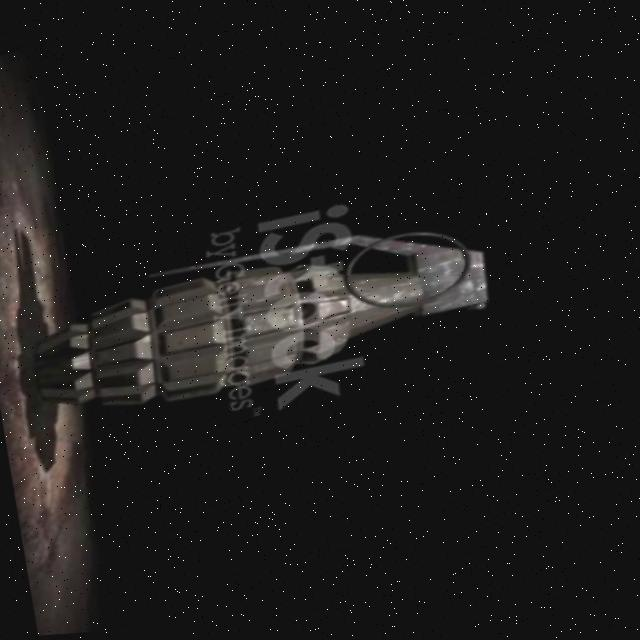grenade: (18, 183, 512, 458)
